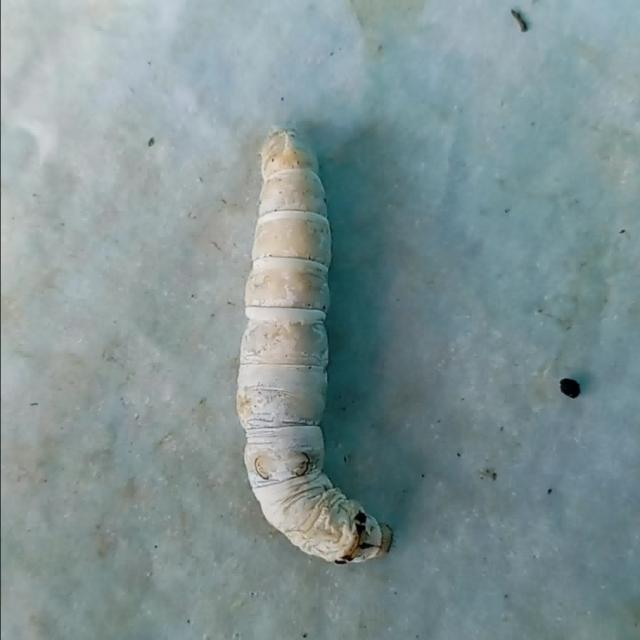Grasserie: (220, 117, 408, 576)
